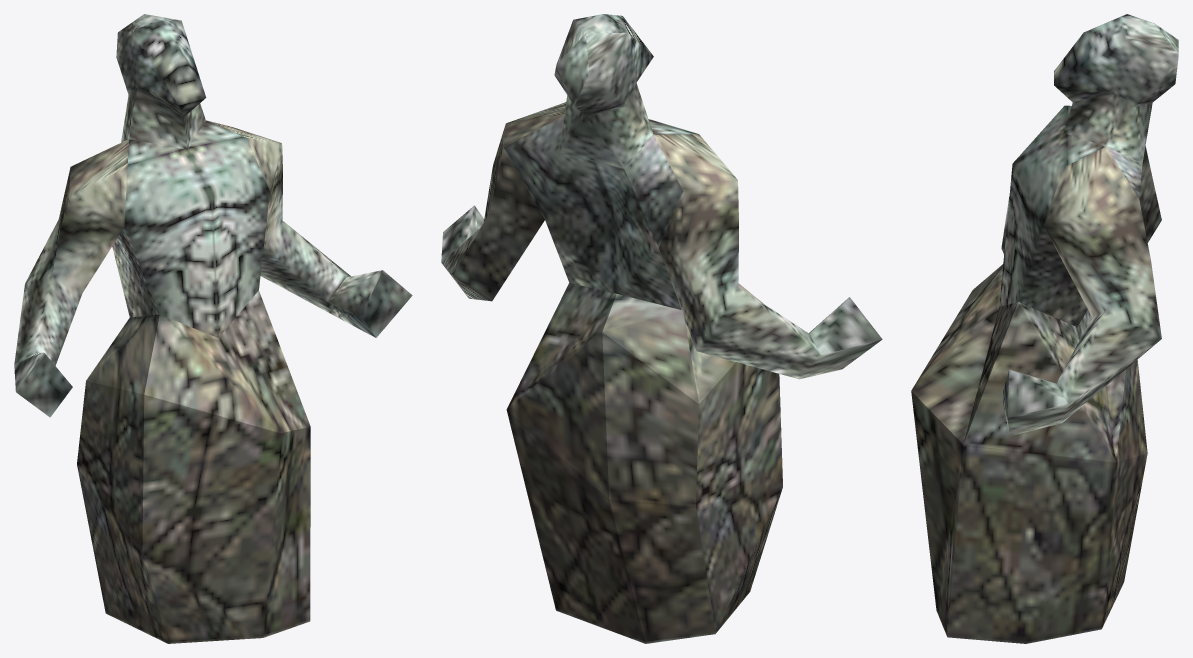
Rendered from avatar_kronos_base.glb.
3 renders of one model, left to right at view 1: azimuth 30°, elevation 25°; view 2: azimuth 150°, elevation 25°; view 3: azimuth 270°, elevation 25°, orthographic. The views are drawn at different scales.
Visible parts, largest first — view 1: MeshRoot; view 2: MeshRoot; view 3: MeshRoot.
Part boxes in pixels (bbox=[...]): MeshRoot: bbox=[14, 14, 412, 643]; MeshRoot: bbox=[441, 14, 882, 643]; MeshRoot: bbox=[911, 14, 1178, 643].
Size of the model in its own units: 4.47 by 6 by 2.48.
Materials: 1 (1 with a texture image).
